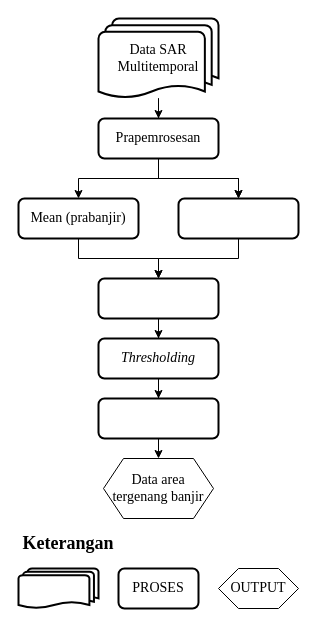
The diagram is 316 pixels wide and 626 high, and some of its shapes have lost their labels. The centre of each missing label's shape, as x and y in pixels:
INPUT: pixel 58 588
Masking tubuh air permanen: pixel 158 418
Min (Paskabanjir): pixel 238 218
Perhitungan NDFI: pixel 158 298
